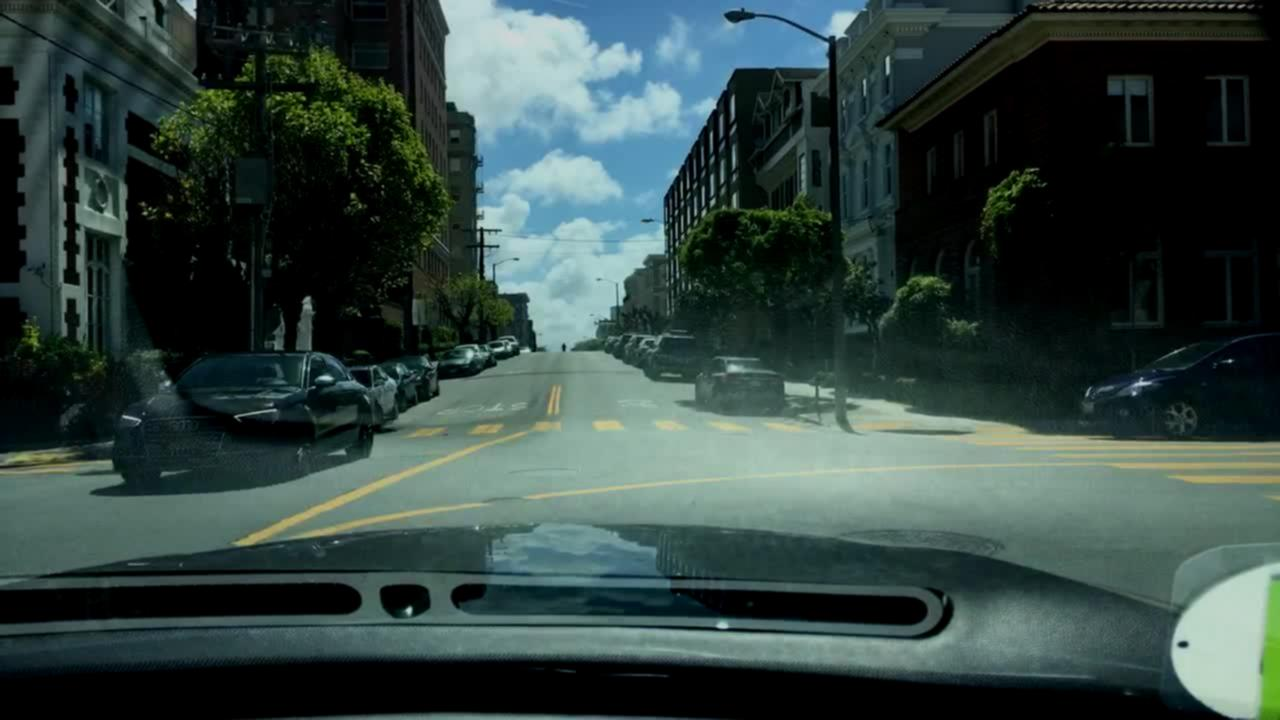Audi: (159, 413, 199, 435)
